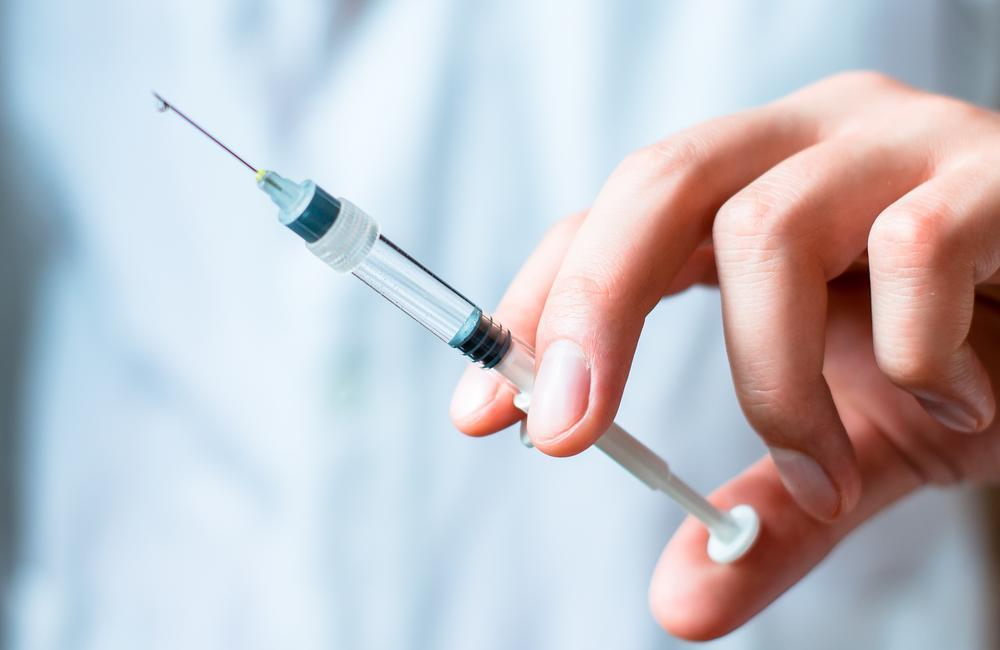Syringe: (256, 170, 534, 411)
